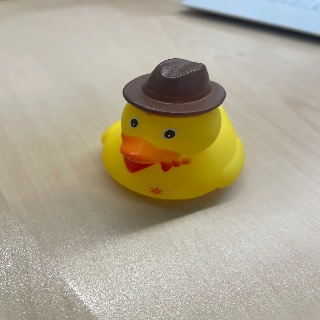duck_specialty: (101, 56, 244, 199)
